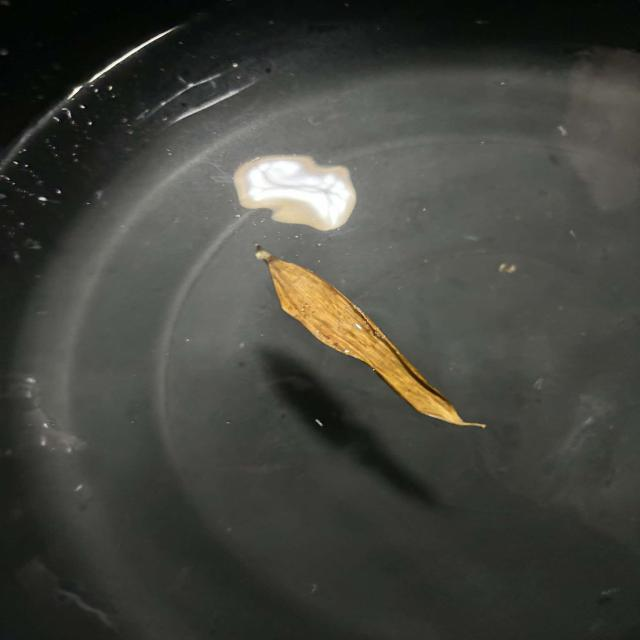Leaf: (251, 247, 498, 453)
